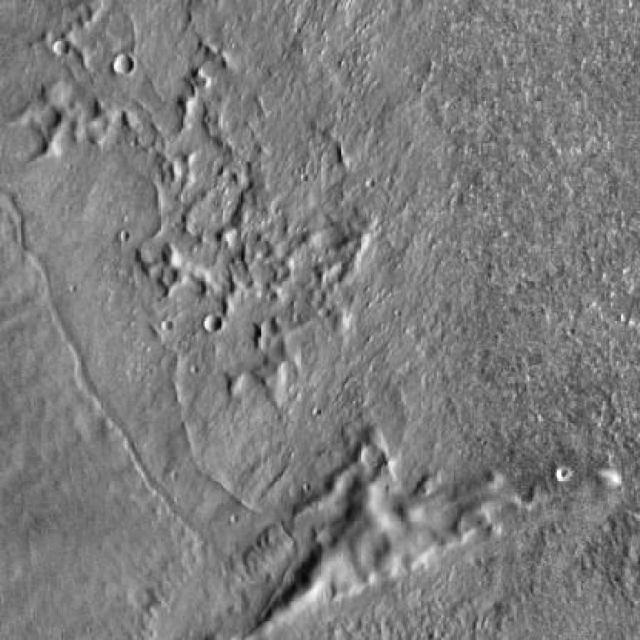crater: (200, 314, 220, 334), (52, 40, 70, 58), (116, 57, 132, 74)
